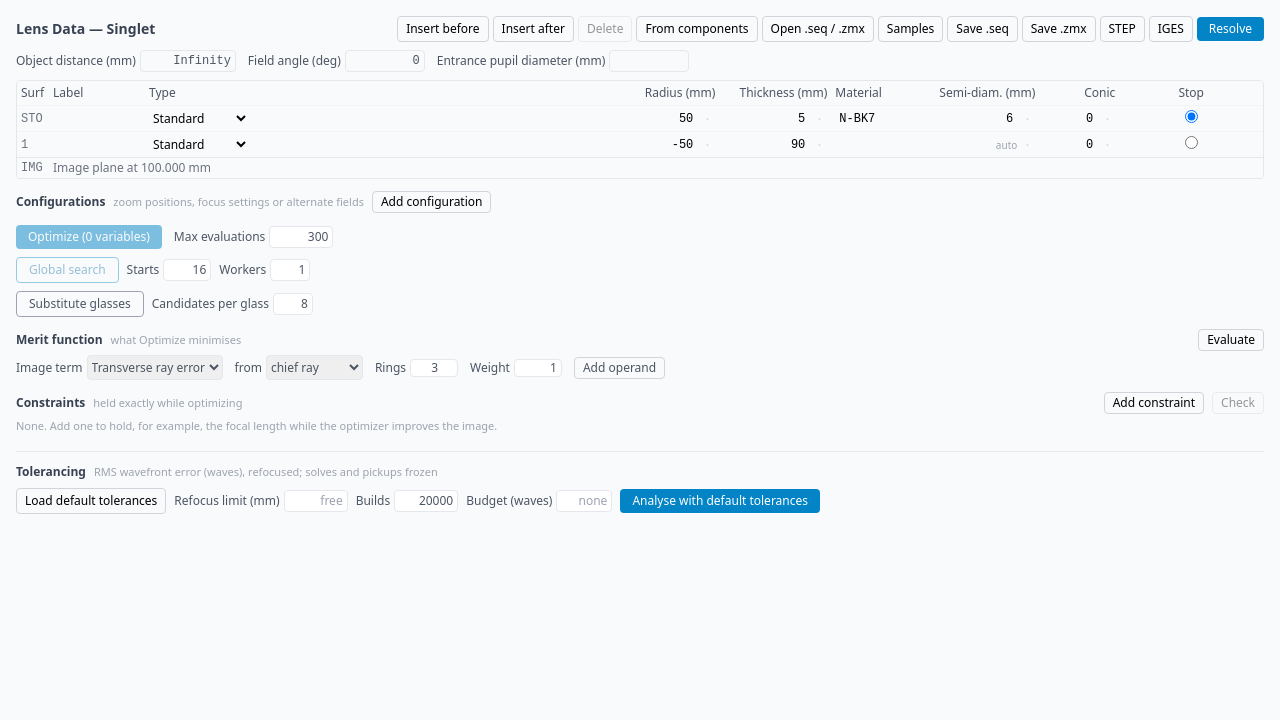
Test: surface types in the editor › gives a new Zernike surface a normalisation radius and shows its details
This screenshot has width=1280, height=720.
Select "Zernike" in the dropdown named "Type, surface 0" at (199, 118), box x1=149 y1=107 x2=249 y2=130
Click the button "STO" at (33, 119), box x1=21 y1=111 x2=45 y2=127
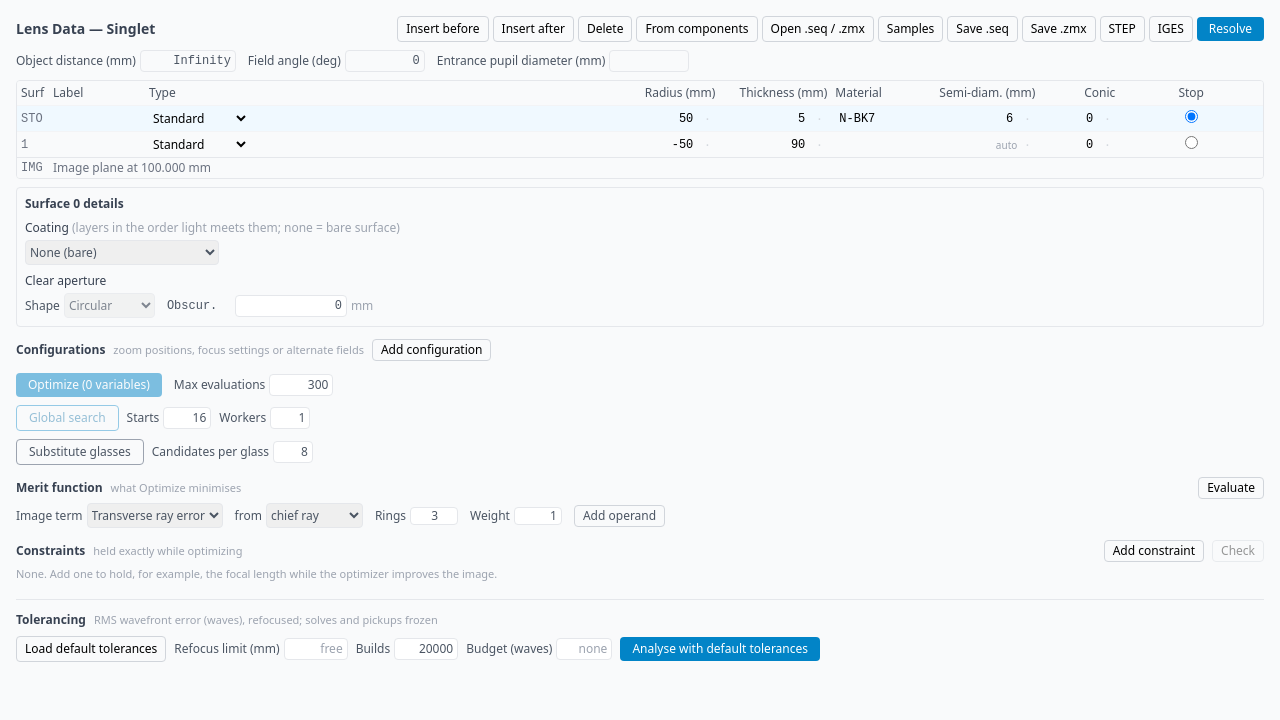
Check: the element with test id "surface-details" shows "Surface 0 details", box x1=16 y1=187 x2=1264 y2=327
